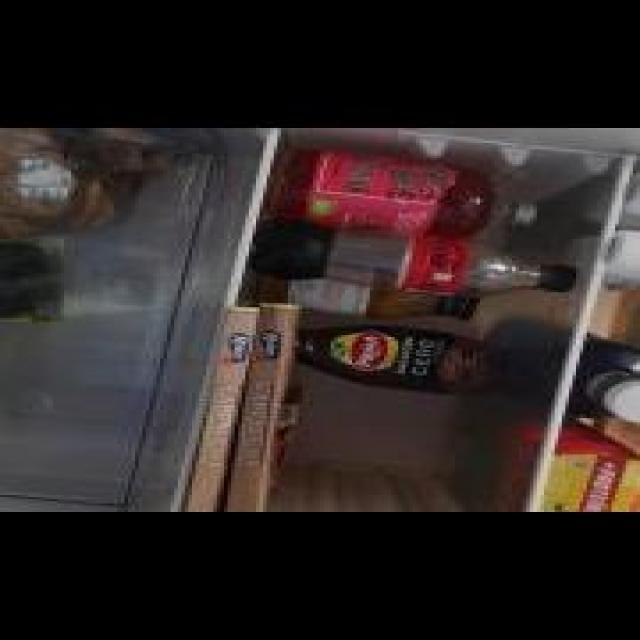avocado: (0, 239, 60, 322)
banana: (0, 322, 46, 446)
